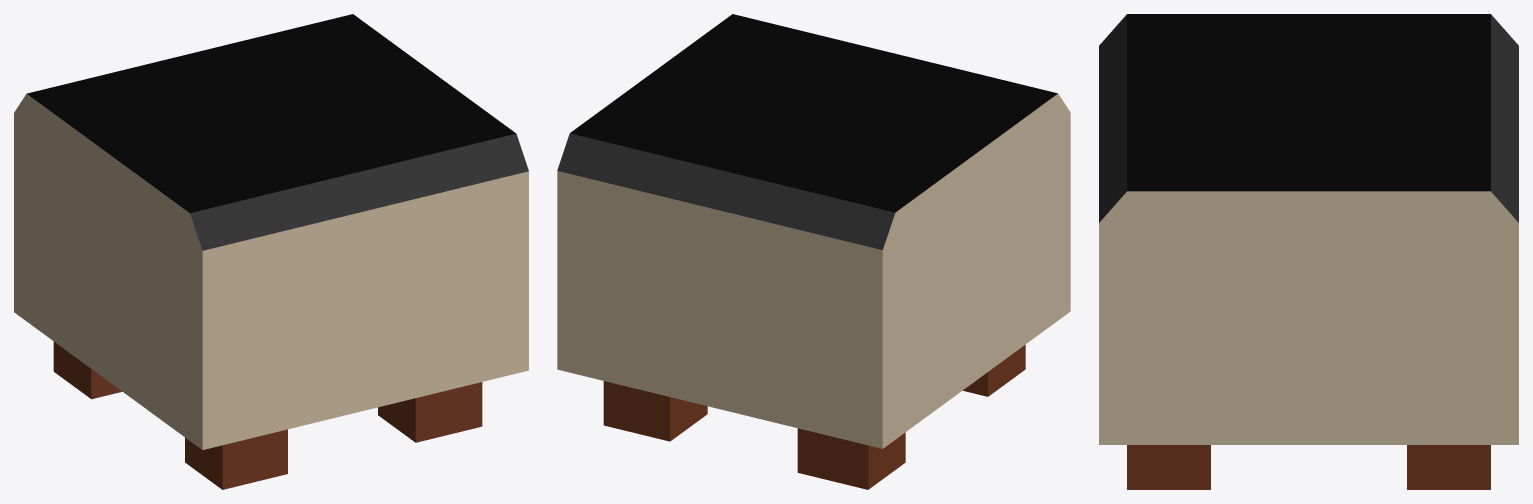
File: Puff.gltf
3 views of the same model, side by side, from view 1: azimuth 30°, elevation 25°; view 2: azimuth 150°, elevation 25°; view 3: azimuth 270°, elevation 25° (orthographic). The views are drawn at different scales.
Parts seen in each view (by area): view 1: cuboid; view 2: cuboid; view 3: cuboid.
Boxes of the visible parts, x1,y1,x2,y2 form: cuboid: (14, 14, 528, 489); cuboid: (557, 14, 1070, 489); cuboid: (1099, 14, 1518, 489).
Bounding box in the file's own units: 0.375 × 0.3125 × 0.375.
1 material, 1 textured.
